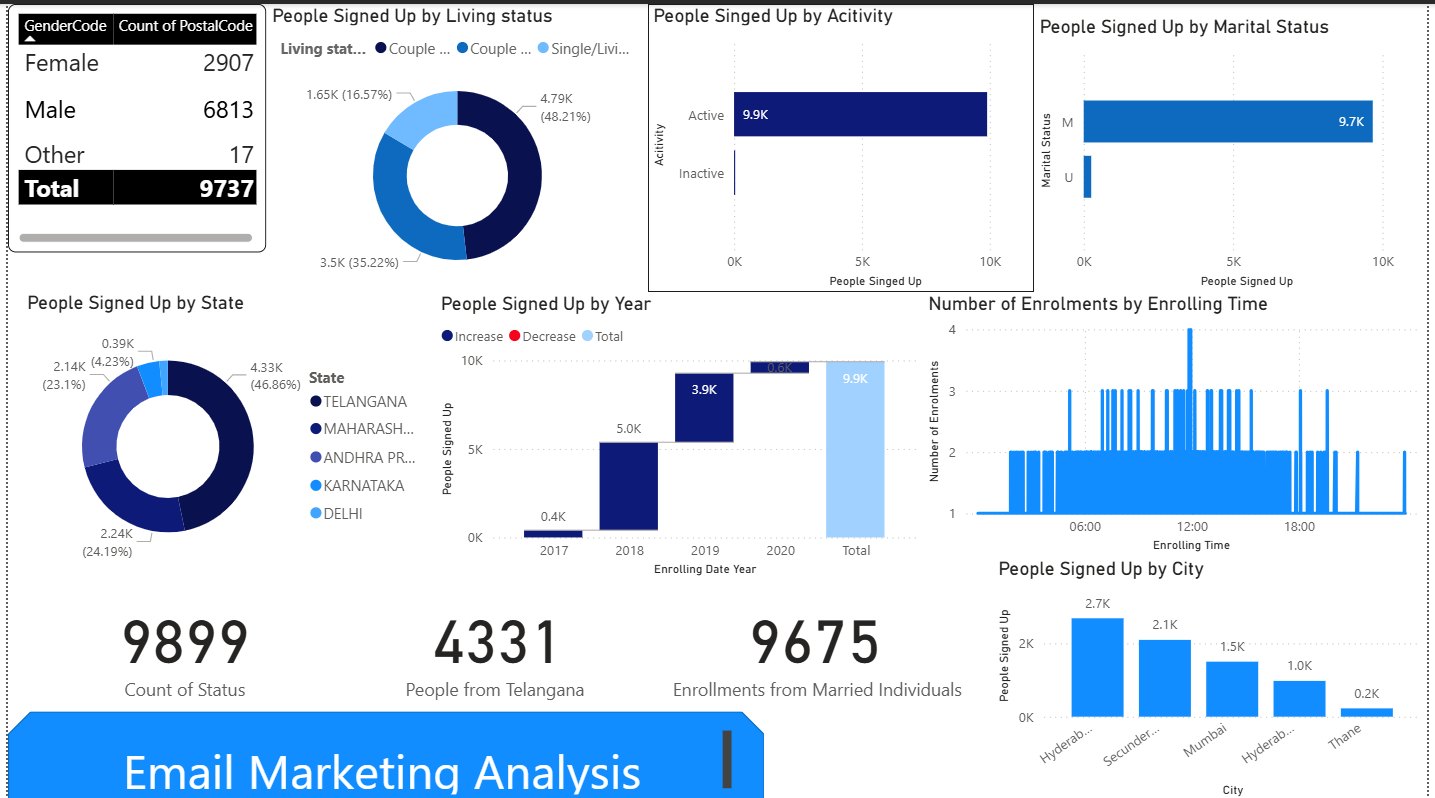

This screenshot's page, from the dashboard's own definition file:
{"tool":"powerbi","page":{"name":"Page 1","canvas":[1280,720],"ordinal":0},"visuals":[{"type":"tableEx","fields":{"Values":["TBL_CustomerProfileData.GenderCode","CountNonNull(TBL_CustomerProfileData.PostalCode)"]},"box":[0,0,232.9,224.3],"z":0},{"type":"donutChart","title":"People Signed Up by Living status","fields":{"Y":["CountNonNull(TBL_CustomerProfileData.Living status)"],"Category":["TBL_CustomerProfileData.Living status"]},"box":[233.3,0,344.2,260.6],"z":1000},{"type":"barChart","title":"People Singed Up by Acitivity","fields":{"Y":["CountNonNull(TBL_CustomerProfileData.Status)"],"Category":["TBL_CustomerProfileData.Status"]},"box":[577.4,0,348.5,260.6],"z":2000},{"type":"barChart","title":"People Signed Up by Marital Status","fields":{"Category":["TBL_CustomerProfileData.MaritalStatus"],"Y":["CountNonNull(TBL_CustomerProfileData.MaritalStatus)"]},"box":[925.9,10.1,354.2,250.6],"z":3000},{"type":"donutChart","title":" People Signed Up by State","fields":{"Category":["TBL_CustomerProfileData.State"],"Y":["CountNonNull(TBL_CustomerProfileData.State)"]},"box":[13,259.2,373,260.6],"z":4000},{"type":"waterfallChart","title":" People Signed Up by Year","fields":{"Category":["TBL_CustomerProfileData.Enrolled on .Variation.Date Hierarchy.Year"],"Y":["CountNonNull(TBL_CustomerProfileData.Date)"]},"box":[385.9,260.6,439.2,260.6],"z":5000},{"type":"areaChart","title":" Number of Enrolments by Enrolling Time","fields":{"Category":["TBL_CustomerProfileData.Time"],"Y":["CountNonNull(TBL_CustomerProfileData.Time)"]},"box":[825.1,260.6,455,239],"z":6000},{"type":"columnChart","title":"People Signed Up by City","fields":{"Category":["TBL_CustomerProfileData.City"],"Y":["CountNonNull(TBL_CustomerProfileData.City)"]},"box":[888.5,499.7,391.7,220.3],"z":7000},{"type":"card","fields":{"Values":["CountNonNull(TBL_CustomerProfileData.MaritalStatus)"]},"box":[577.8,519.1,299,119.3],"z":8000},{"type":"card","fields":{"Values":["CountNonNull(TBL_CustomerProfileData.State)"]},"box":[305.7,520.7,272.1,117.6],"z":9000},{"type":"card","fields":{"Values":["CountNonNull(TBL_CustomerProfileData.Status)"]},"box":[13.4,520.7,292.3,117.6],"z":10000},{"type":"shape","box":[0,638.3,682,80.6],"z":10001},{"type":"textbox","box":[13,650.9,645.1,67.7],"z":10002}]}

Visuals, with their boxes in screenshot pixels (x1, y1, x2, y2), scaled from the page's 1280x720 canvas onto the 1435x798 screenshot:
tableEx - TBL_CustomerProfileData.GenderCode x CountNonNull(TBL_CustomerProfileData.PostalCode): bbox(0, 0, 261, 249)
"People Signed Up by Living status" donutChart: bbox(262, 0, 647, 289)
"People Singed Up by Acitivity" barChart: bbox(647, 0, 1038, 289)
"People Signed Up by Marital Status" barChart: bbox(1038, 11, 1434, 289)
" People Signed Up by State" donutChart: bbox(15, 287, 433, 576)
" People Signed Up by Year" waterfallChart: bbox(433, 289, 925, 578)
" Number of Enrolments by Enrolling Time" areaChart: bbox(925, 289, 1434, 554)
"People Signed Up by City" columnChart: bbox(996, 554, 1434, 797)
card - CountNonNull(TBL_CustomerProfileData.MaritalStatus): bbox(648, 575, 983, 708)
card - CountNonNull(TBL_CustomerProfileData.State): bbox(343, 577, 648, 707)
card - CountNonNull(TBL_CustomerProfileData.Status): bbox(15, 577, 343, 707)
shape: bbox(0, 707, 765, 797)
textbox: bbox(15, 721, 738, 796)
